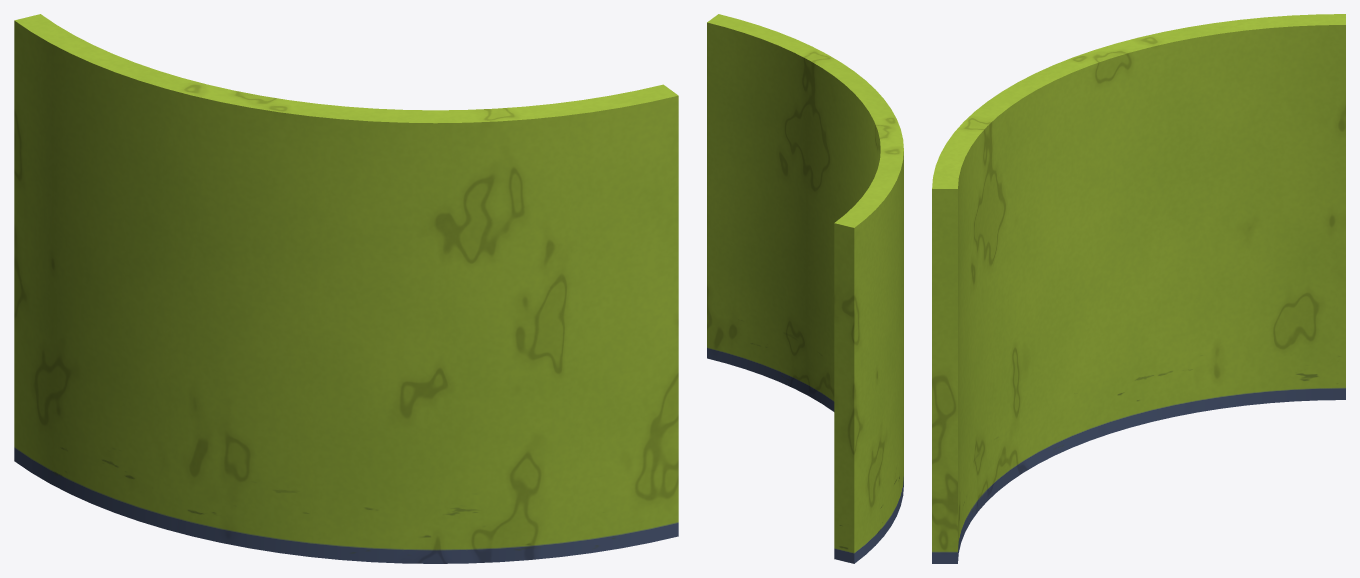
File: wall_curved.fbx
The picture shows the model from 3 angles, left to right: view 1: azimuth 30°, elevation 25°; view 2: azimuth 150°, elevation 25°; view 3: azimuth 270°, elevation 25°; orthographic projection. The views are drawn at different scales.
Parts seen in each view (by area): view 1: Body; view 2: Body; view 3: Body.
Part boxes in pixels (<box>): Body: <box>14,14,678,563</box>; Body: <box>707,14,903,563</box>; Body: <box>932,14,1345,563</box>.
Bounding box in the file's own units: 16 × 16 × 16.
Materials: 1 (1 with a texture image).
